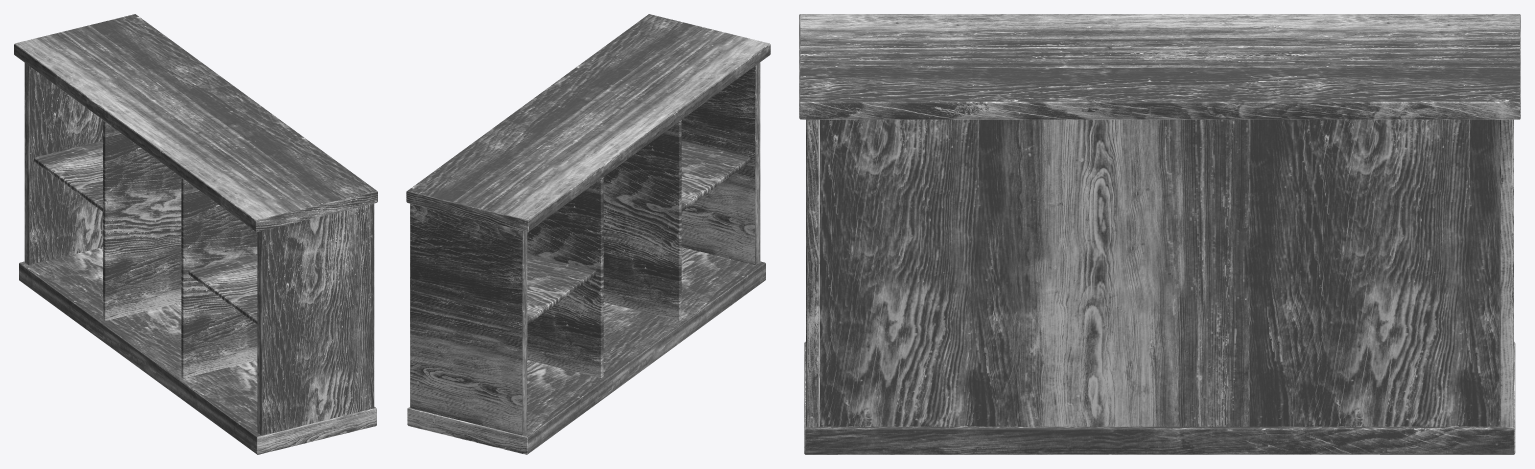
Rendered from SM_Cabinet_C1.fbx.
3 views of the same model, side by side, from view 1: azimuth 30°, elevation 25°; view 2: azimuth 150°, elevation 25°; view 3: azimuth 270°, elevation 25° (orthographic). The views are drawn at different scales.
Visible parts, largest first — view 1: SM_Cabinet_C1; view 2: SM_Cabinet_C1; view 3: SM_Cabinet_C1.
Part boxes in pixels (left/top/right/bottom): SM_Cabinet_C1: left=14, top=14, right=377, bottom=454; SM_Cabinet_C1: left=406, top=14, right=770, bottom=454; SM_Cabinet_C1: left=799, top=14, right=1520, bottom=454.
Size of the model in its own units: 44.87 by 153 by 82.37.
Materials: 1 (1 with a texture image).
